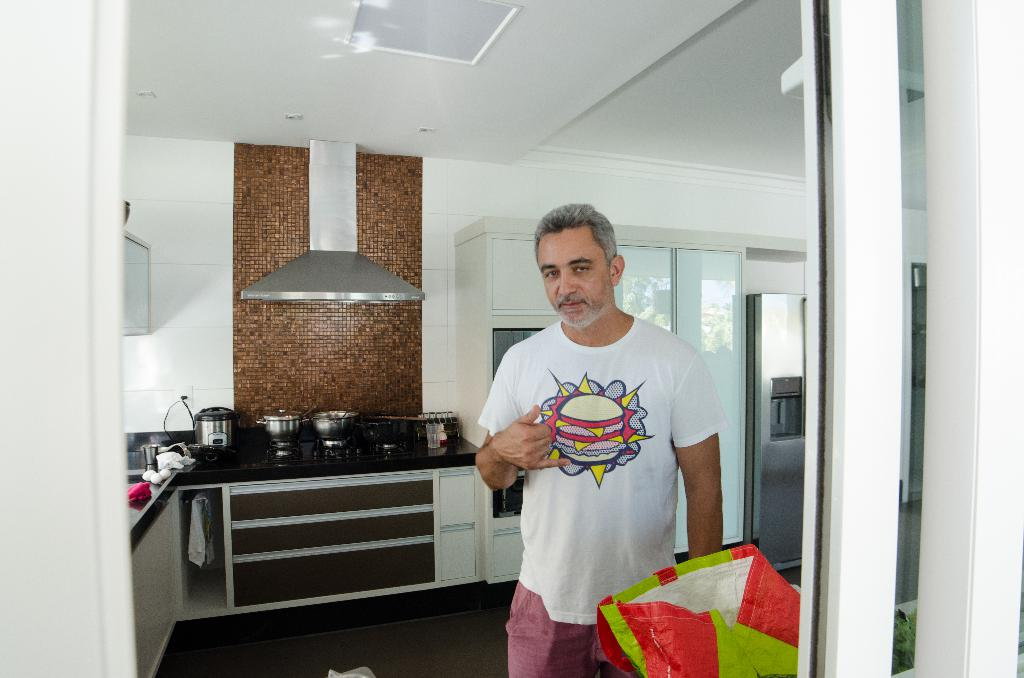Refrigerator: (748, 298, 805, 566)
